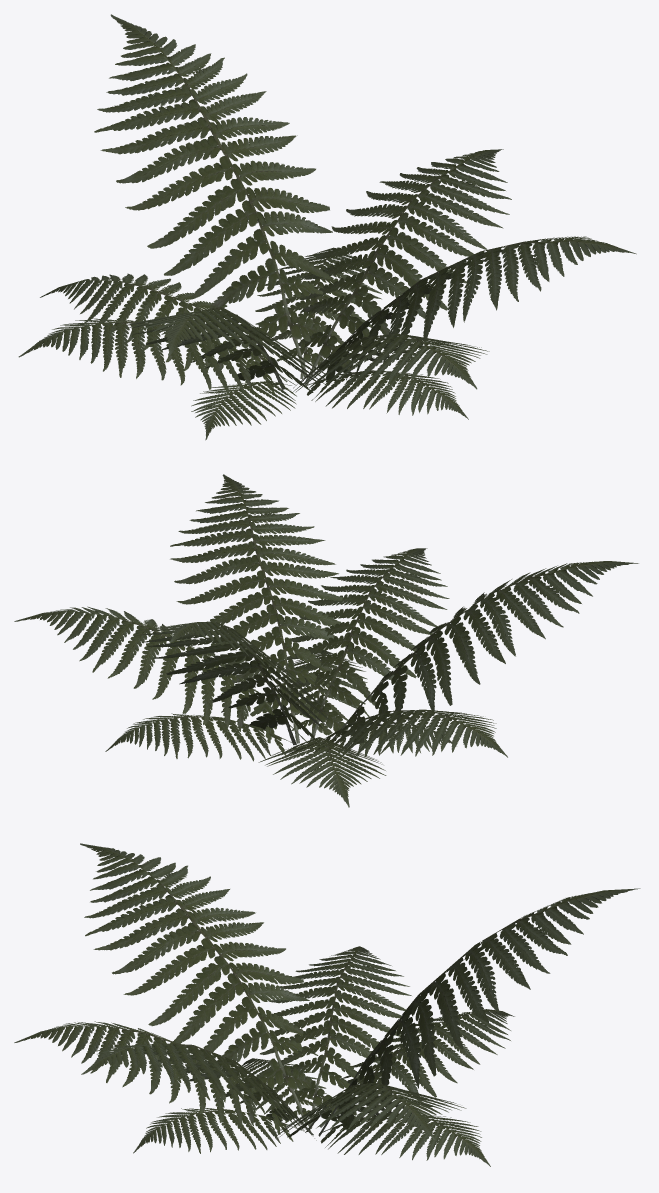
File: scene-dark.glb
The picture shows the model from 3 angles, top to bottom: view 1: azimuth 30°, elevation 25°; view 2: azimuth 150°, elevation 25°; view 3: azimuth 270°, elevation 25°; orthographic projection. The views are drawn at different scales.
Visible parts, largest first — view 1: Tree_0; view 2: Tree_0; view 3: Tree_0.
Part boxes in pixels (x1,y1,x2,y2): Tree_0: (18, 14, 636, 440); Tree_0: (14, 474, 638, 807); Tree_0: (14, 843, 640, 1166).
Size of the model in its own units: 2.17 by 0.9346 by 2.26.
1 material, 1 textured.
